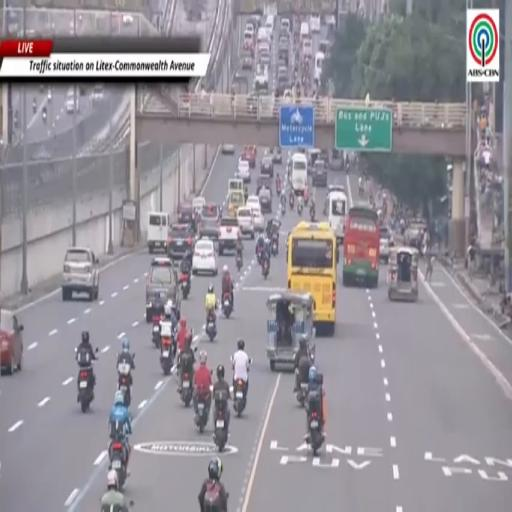bus: (287, 221, 338, 335), (343, 204, 379, 287)
car: (146, 258, 181, 323), (62, 247, 99, 300), (0, 310, 23, 374), (168, 223, 194, 259), (192, 239, 217, 275), (323, 184, 345, 215), (237, 206, 254, 238), (380, 227, 393, 263), (198, 218, 218, 239), (177, 202, 194, 226), (312, 159, 327, 186), (276, 76, 290, 102), (251, 204, 264, 232), (200, 203, 221, 220), (256, 175, 272, 197), (259, 186, 272, 213), (66, 88, 79, 114), (236, 159, 250, 183), (242, 146, 257, 168), (255, 66, 268, 90), (246, 92, 258, 116), (261, 155, 273, 177), (192, 197, 205, 215), (309, 14, 321, 33), (278, 47, 289, 65), (92, 84, 103, 101), (271, 147, 282, 164), (241, 55, 253, 70), (259, 51, 270, 66), (246, 196, 259, 207), (277, 66, 288, 78), (222, 144, 235, 154), (278, 58, 287, 69)
motorcycle: (110, 441, 126, 491), (77, 366, 94, 412), (213, 402, 227, 452), (309, 410, 324, 456), (117, 361, 131, 407), (195, 394, 208, 433), (161, 336, 173, 375), (234, 379, 246, 417), (180, 372, 193, 407), (206, 312, 217, 342), (152, 315, 162, 347), (180, 272, 190, 299), (222, 293, 232, 318), (297, 382, 307, 407), (262, 258, 269, 279), (271, 235, 278, 255), (256, 245, 263, 264), (236, 252, 242, 271), (32, 98, 38, 114), (289, 192, 294, 210), (310, 204, 315, 221), (297, 203, 302, 216), (276, 183, 281, 196), (42, 107, 46, 123), (303, 194, 308, 206), (281, 203, 285, 216)
truck: (219, 217, 239, 255)
